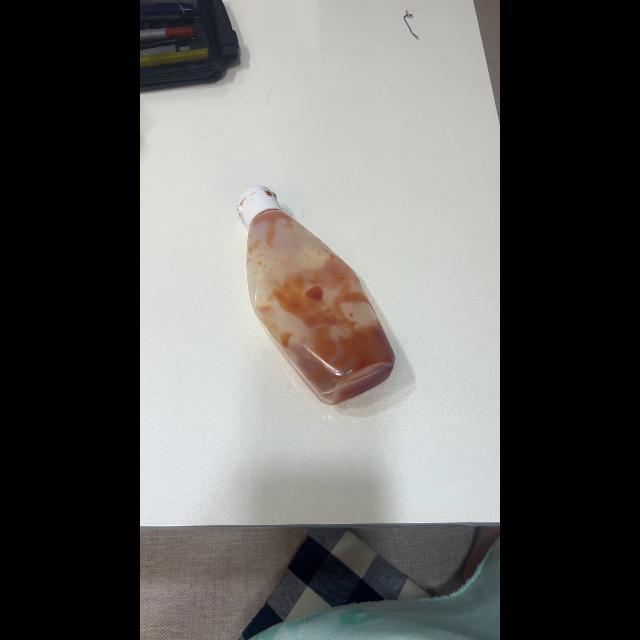dirty: (239, 179, 395, 407)
